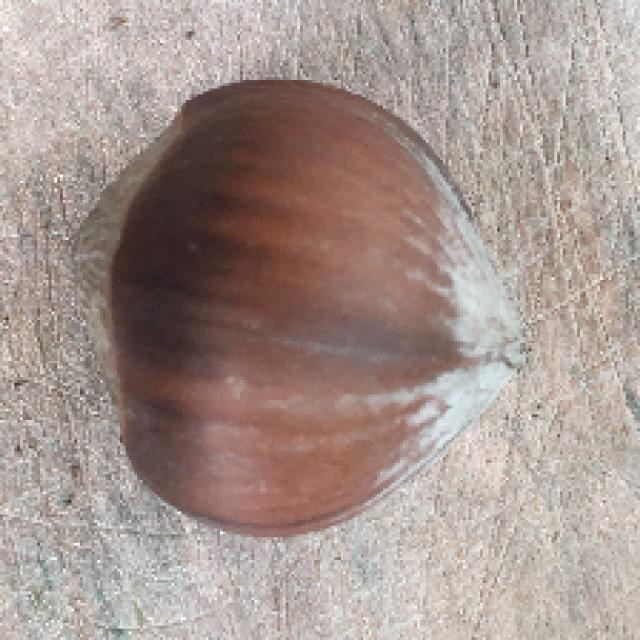qualityHazelnut: (86, 88, 530, 531)
